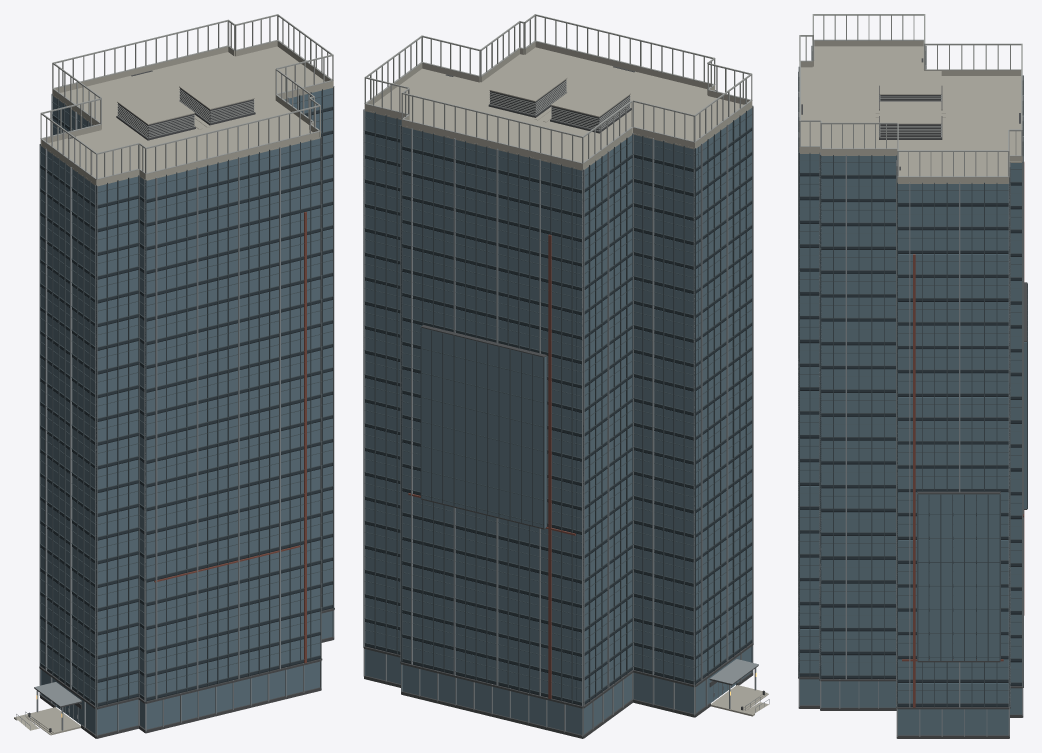
File: building-t2-lod0.glb
The picture shows the model from 3 angles, left to right: view 1: azimuth 30°, elevation 25°; view 2: azimuth 150°, elevation 25°; view 3: azimuth 270°, elevation 25°; orthographic projection. The views are drawn at different scales.
Visible parts, largest first — view 1: building-t2_MATERIAL_BATCH; view 2: building-t2_MATERIAL_BATCH; view 3: building-t2_MATERIAL_BATCH.
Boxes of the visible parts, x1,y1,x2,y2 form: building-t2_MATERIAL_BATCH: (14,14,334,738); building-t2_MATERIAL_BATCH: (363,14,769,738); building-t2_MATERIAL_BATCH: (798,14,1027,738).
Bounding box in the file's own units: 64.51 × 111 × 39.33.
